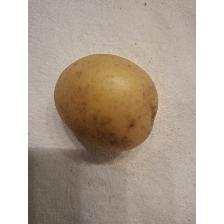Kartoffel: (51, 50, 161, 154)
